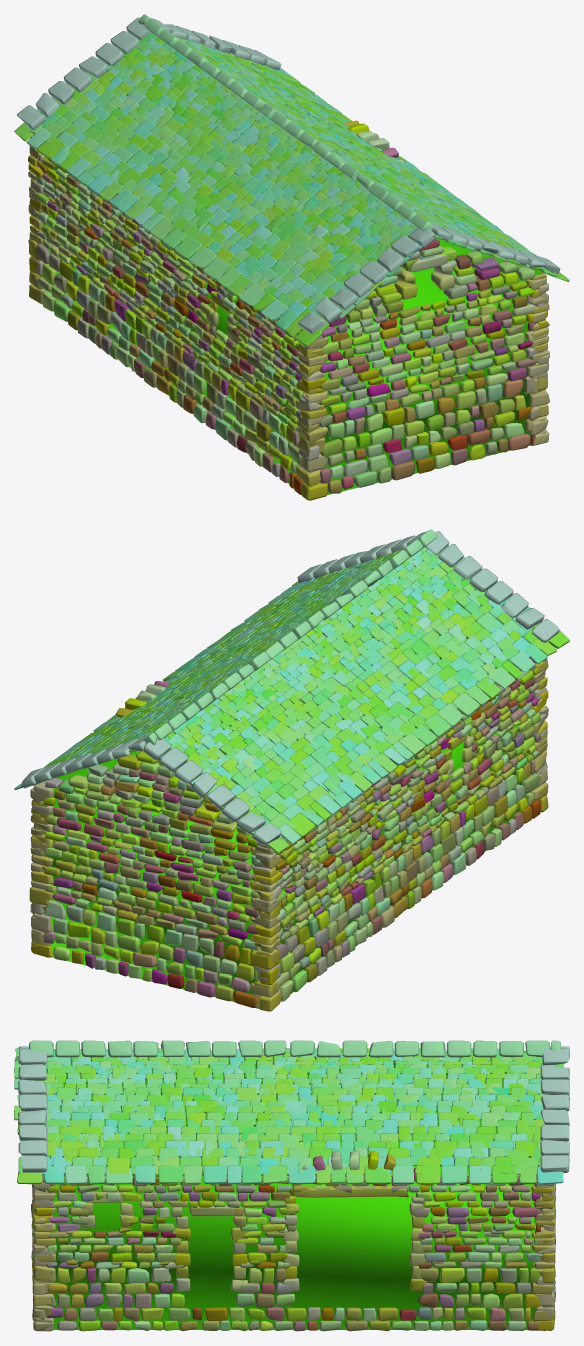
File: SM_Barn_02.glb
3 renders of one model, top to bottom at view 1: azimuth 30°, elevation 25°; view 2: azimuth 150°, elevation 25°; view 3: azimuth 270°, elevation 25°, orthographic. The views are drawn at different scales.
Visible parts, largest first — view 1: SM_Barn_02; view 2: SM_Barn_02; view 3: SM_Barn_02.
Boxes of the visible parts, left/top/right/bottom form: SM_Barn_02: left=14, top=14, right=569, bottom=500; SM_Barn_02: left=14, top=529, right=569, bottom=1011; SM_Barn_02: left=14, top=1040, right=569, bottom=1331.
Size of the model in its own units: 6.61 by 5.97 by 12.77.
